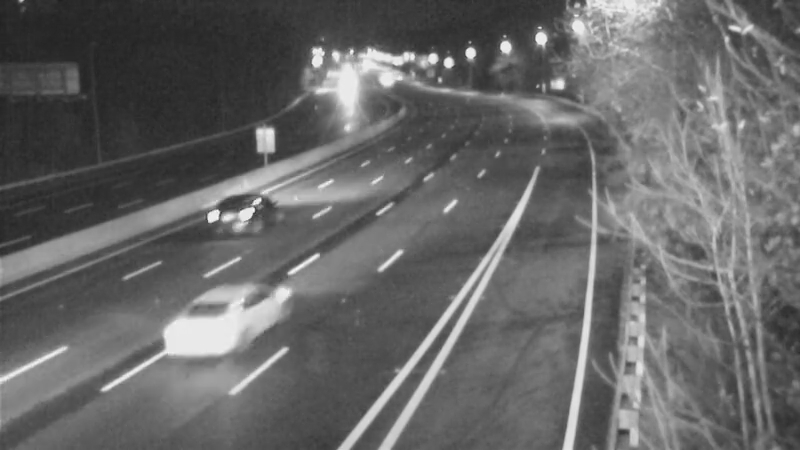vehicle: (144, 280, 254, 390), (187, 182, 267, 262)
